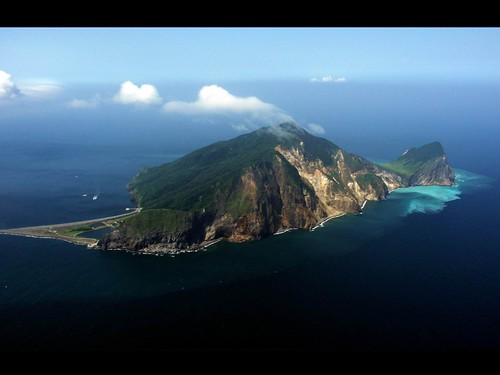turtleIslandTop: (1, 111, 465, 249)
